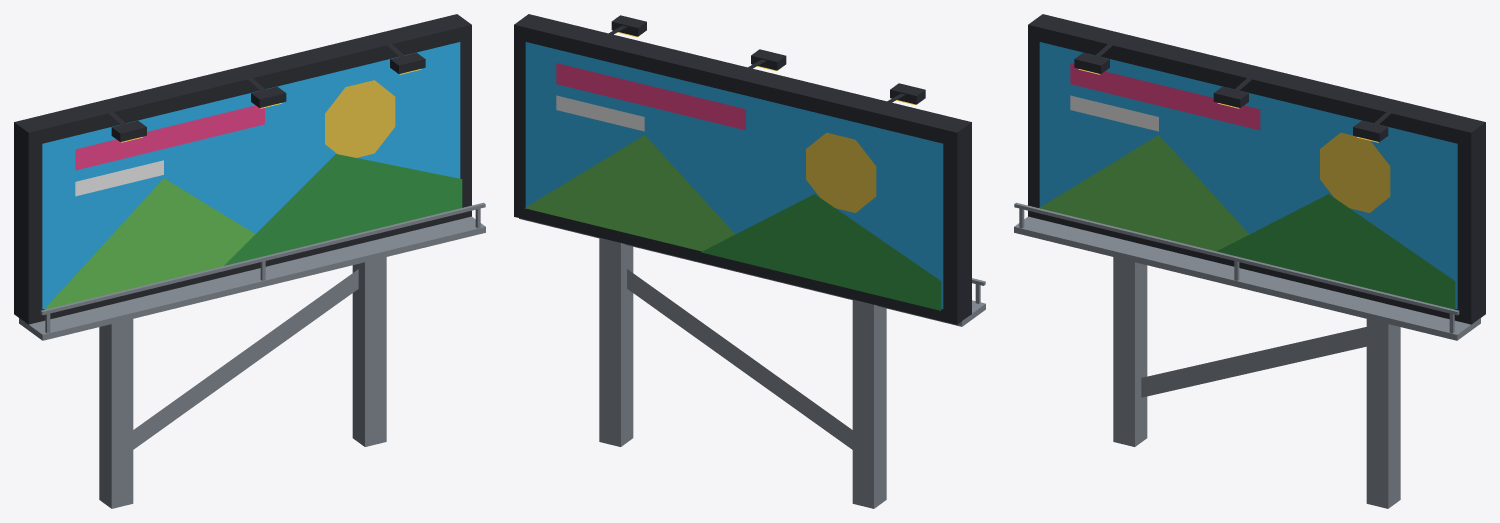
File: billboard.glb
3 renders of one model, left to right at view 1: azimuth 30°, elevation 25°; view 2: azimuth 150°, elevation 25°; view 3: azimuth 330°, elevation 25°, orthographic.
Visible parts, largest first — view 1: billboard; view 2: billboard; view 3: billboard.
Boxes of the visible parts, x1,y1,x2,y2 form: billboard: (14,14,485,508); billboard: (514,14,985,508); billboard: (1014,14,1485,508).
Bounding box in the file's own units: 0.7 × 0.6 × 0.111.
